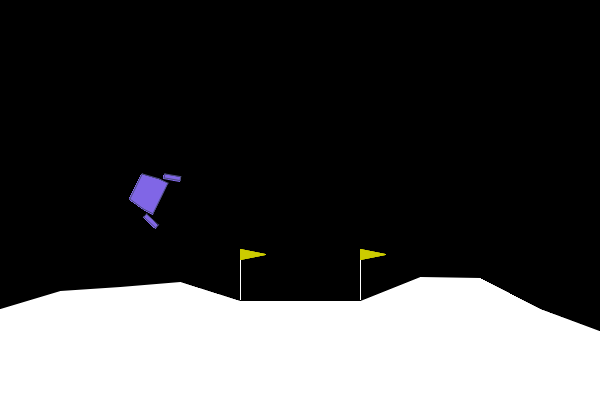lander: (120, 159, 183, 231)
